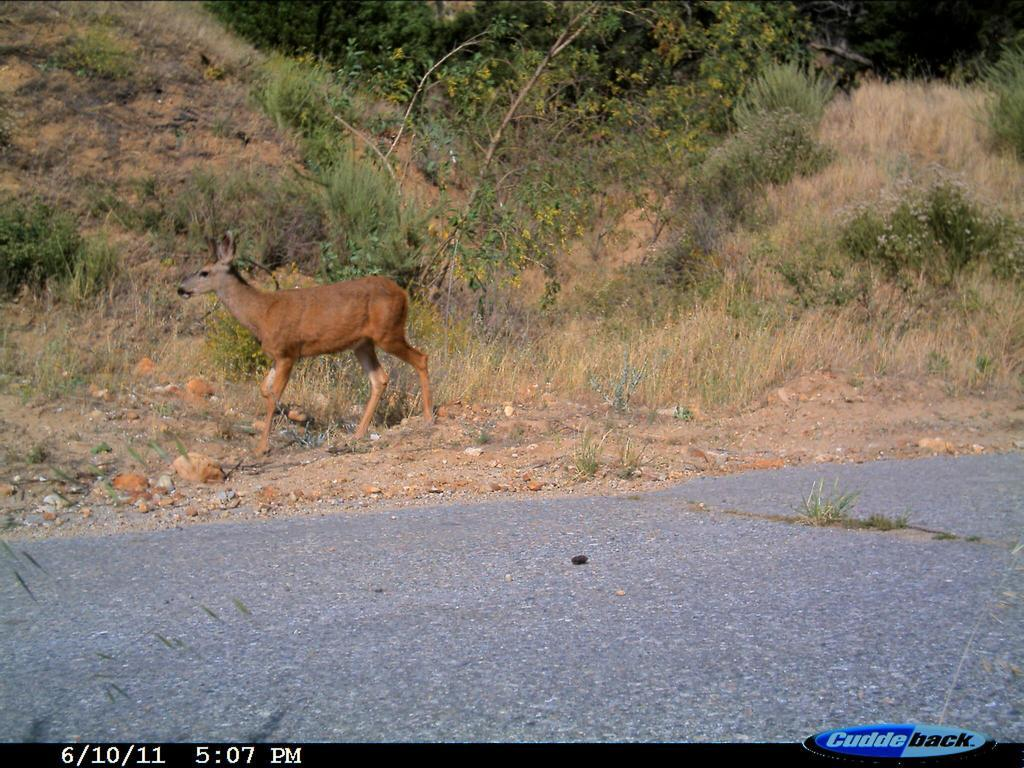deer: (180, 236, 468, 472)
